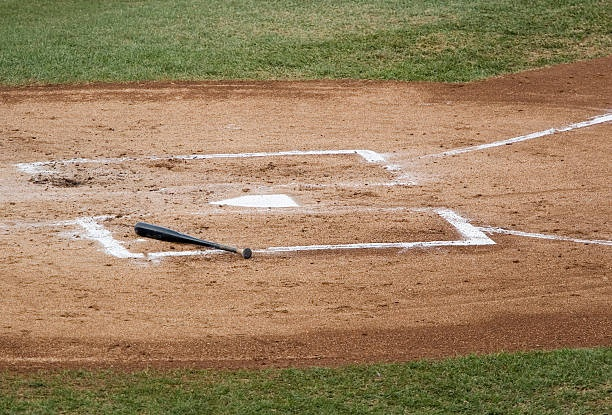bita: (135, 222, 256, 260)
